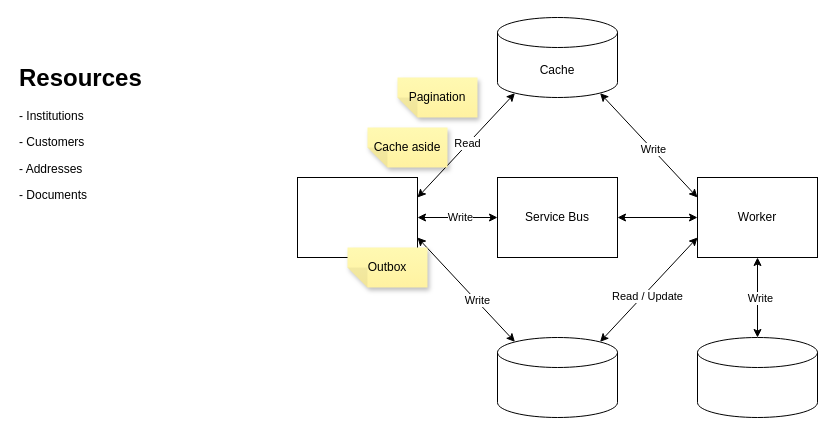
Image size: 835x435. Some labels were removed from this diagram. Each missing label, with the centre of its shape:
API: the point at 357,217
Database: the point at 757,377
Log: the point at 557,377
